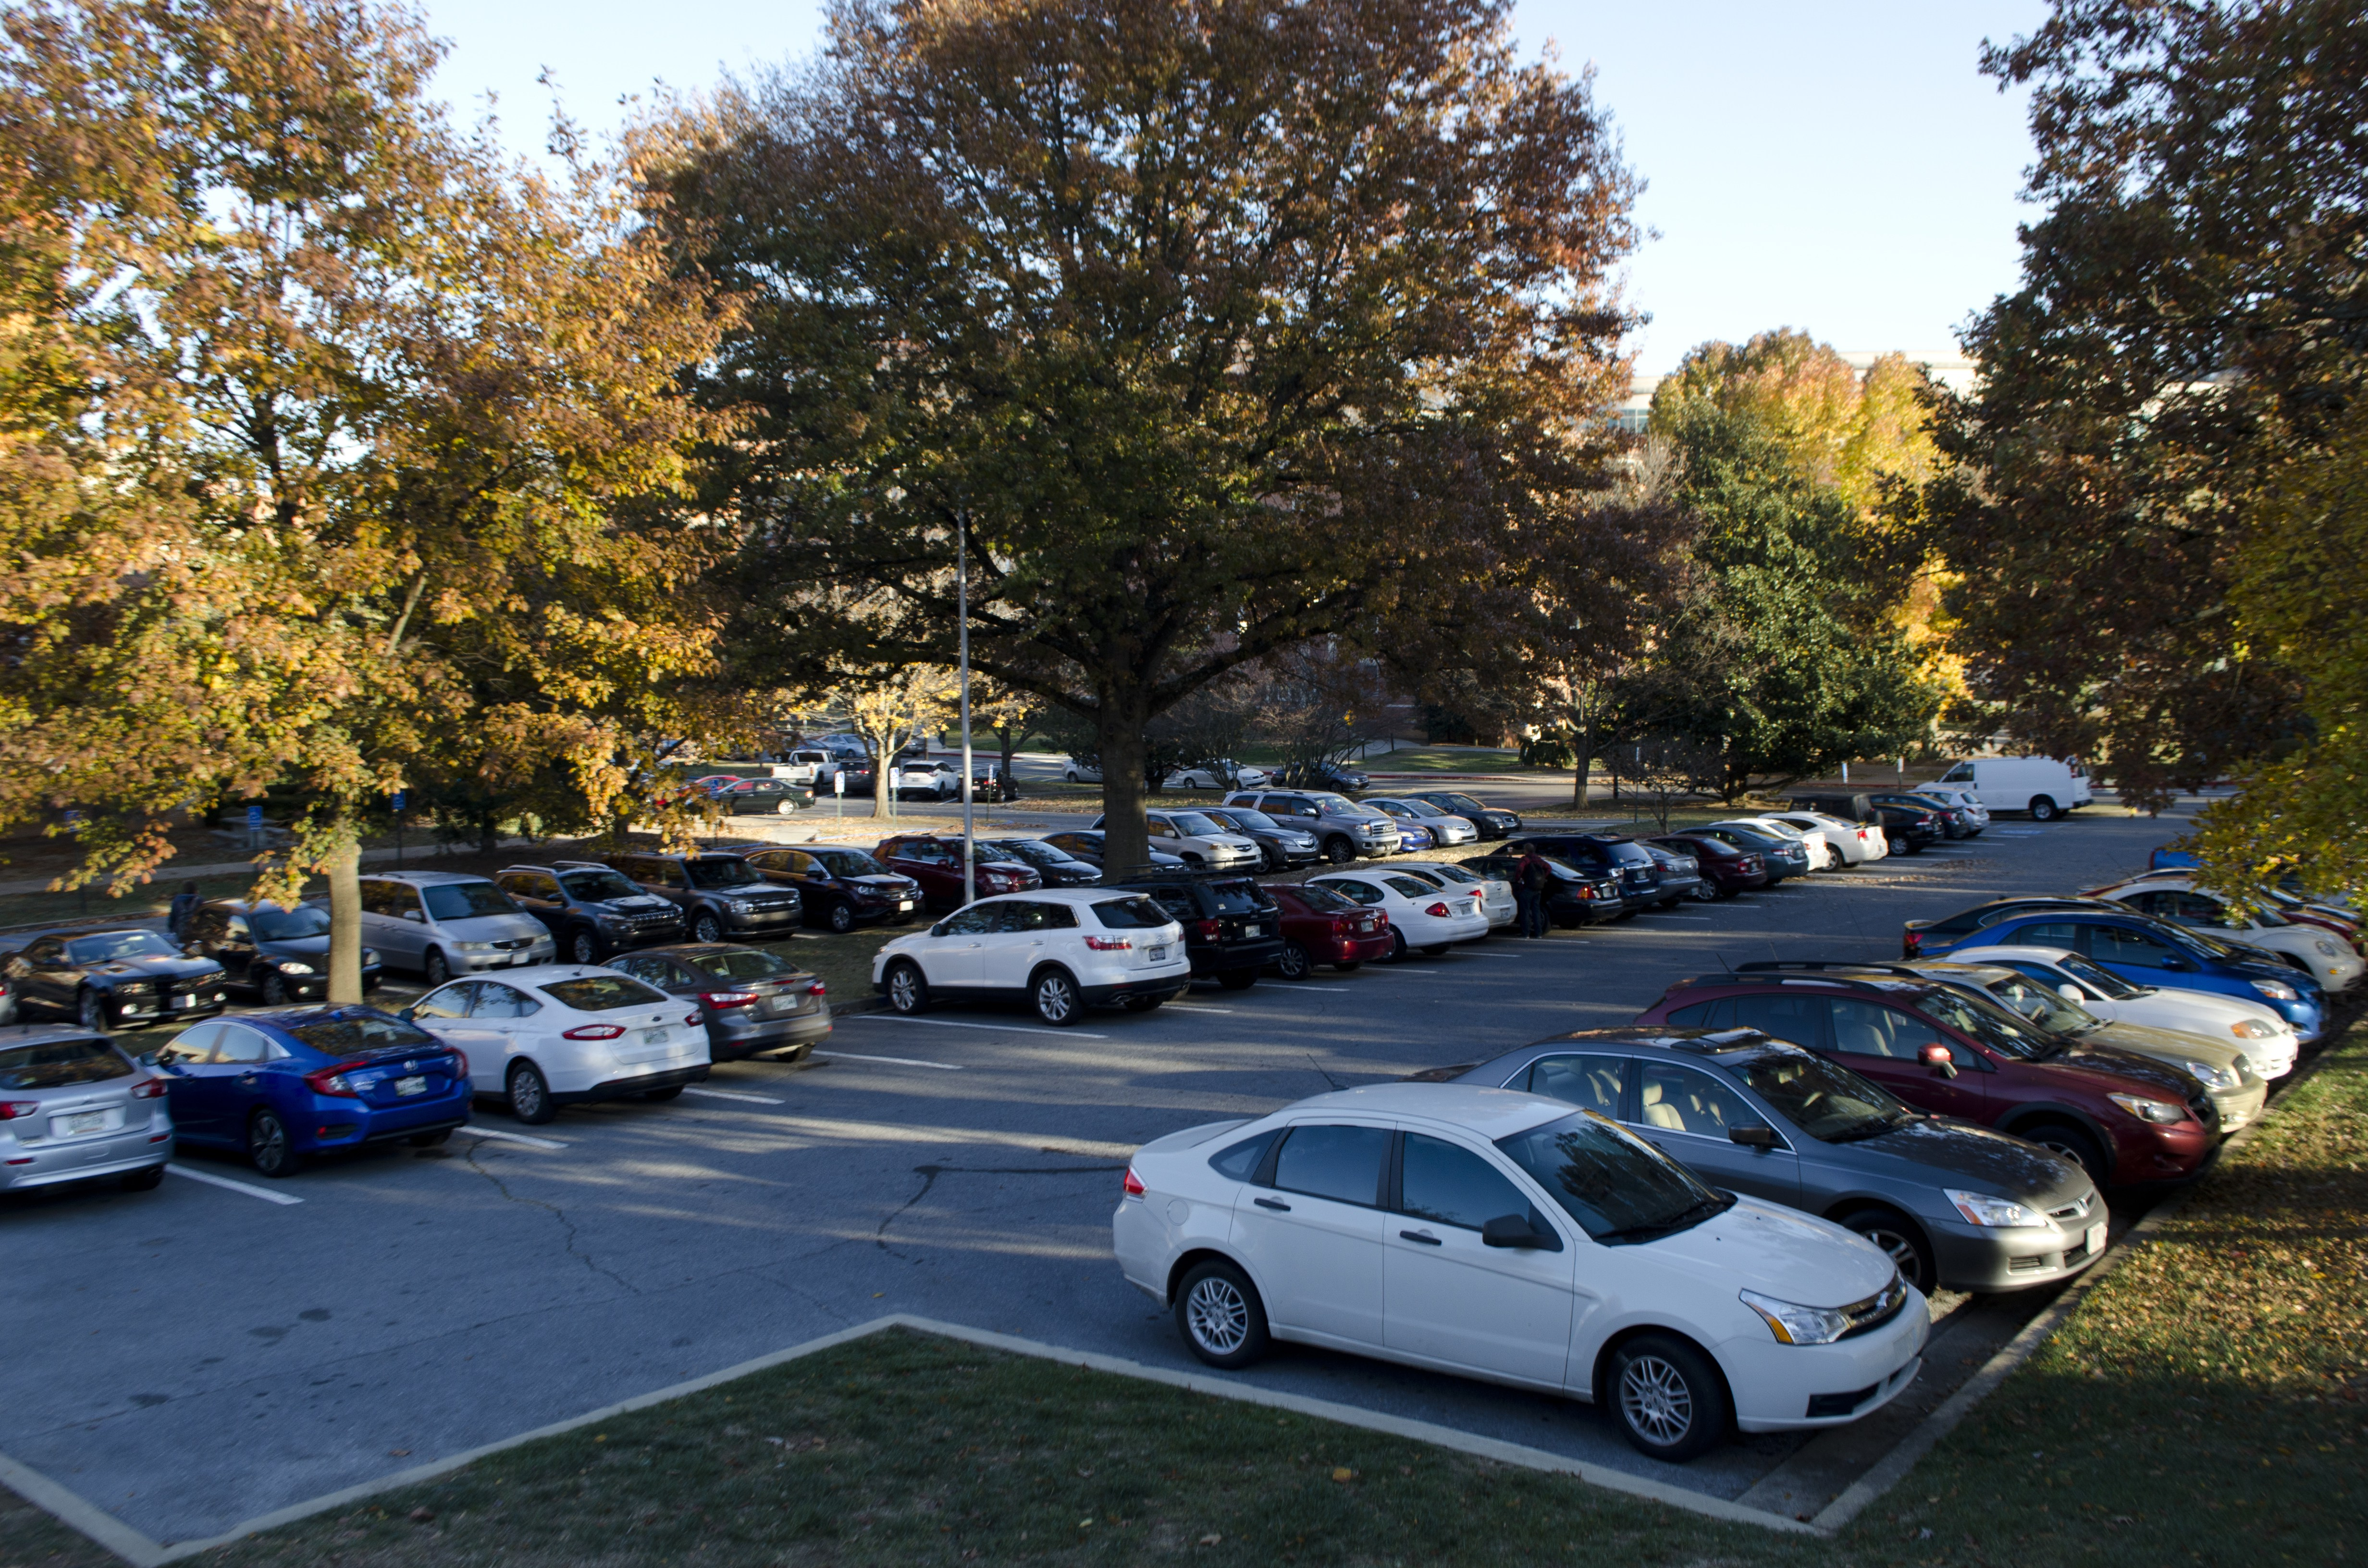empyt_space: (781, 998, 1108, 1071)
